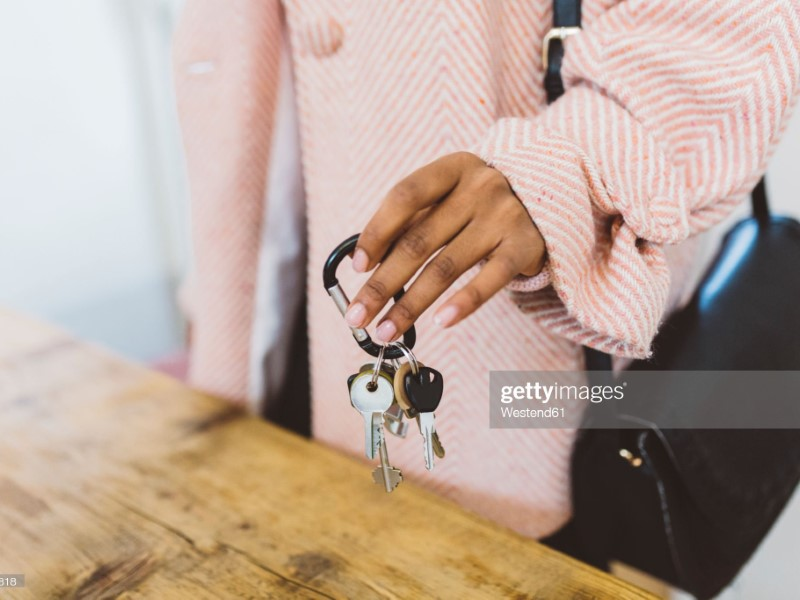key: (344, 342, 397, 495), (395, 354, 449, 469)
